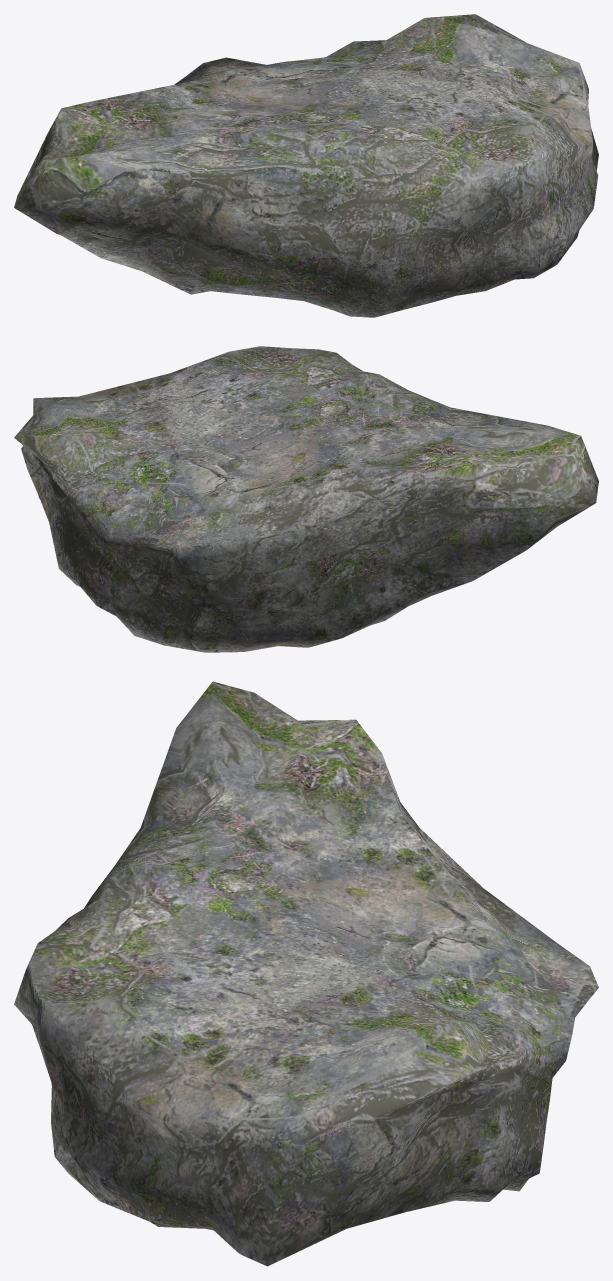
Rendered from rock_3.glb.
3 renders of one model, top to bottom at view 1: azimuth 30°, elevation 25°; view 2: azimuth 150°, elevation 25°; view 3: azimuth 270°, elevation 25°, orthographic. The views are drawn at different scales.
Visible parts, largest first — view 1: low:cube_2; view 2: low:cube_2; view 3: low:cube_2.
Part boxes in pixels (box(x1,y1,x2,y2)): low:cube_2: box(14, 14, 598, 317); low:cube_2: box(14, 346, 598, 652); low:cube_2: box(14, 681, 598, 1266).
Size of the model in its own units: 482 by 181 by 320.
1 material, 1 textured.
